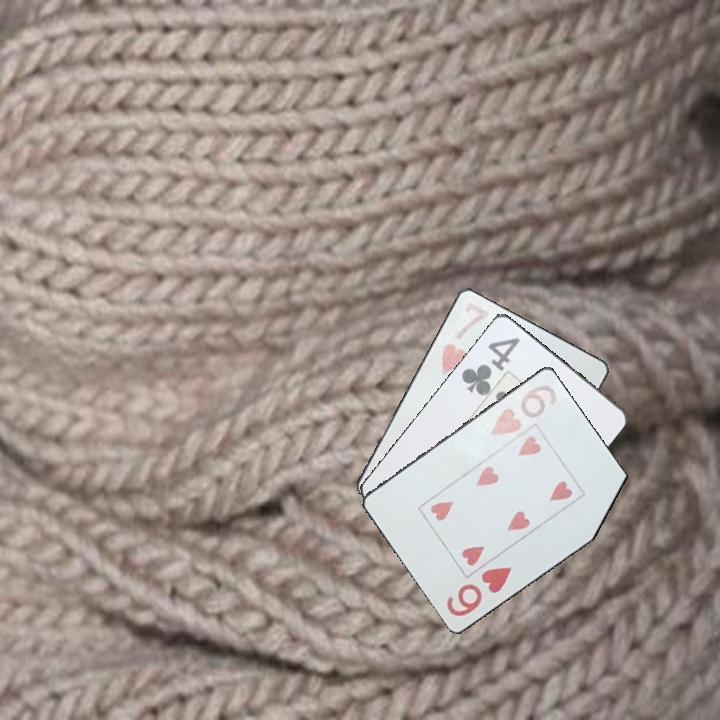4c: (458, 333, 523, 398)
6h: (484, 377, 560, 439), (443, 563, 515, 619)
7h: (438, 298, 493, 377)
